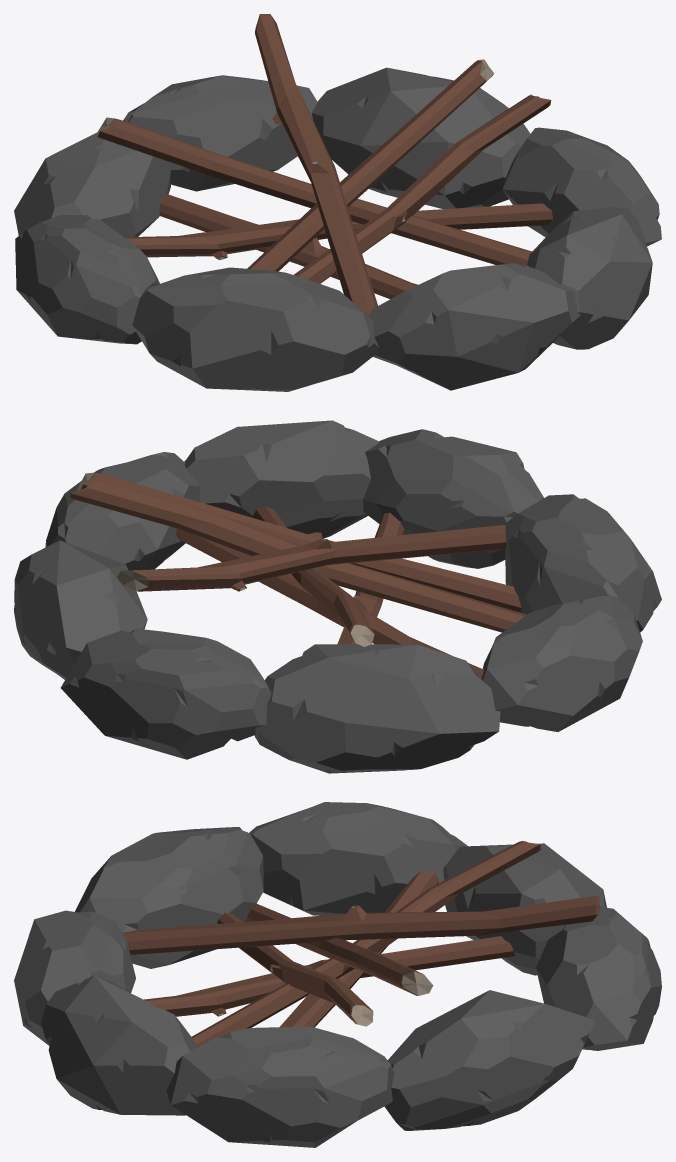
File: Campfire.fbx
3 renders of one model, top to bottom at view 1: azimuth 30°, elevation 25°; view 2: azimuth 150°, elevation 25°; view 3: azimuth 270°, elevation 25°, orthographic. The views are drawn at different scales.
Visible parts, largest first — view 1: Campfire Part Rock 04, Campfire Part Rock 05, Campfire Part Rock 08, Campfire Part Rock 03, Campfire Part Rock 06, Campfire Part Rock 01, Campfire Part Rock 02, Campfire Part Rock 07, Campfire Stick Part 03, Campfire Stick Part 06, Campfire Stick Part 04, Campfire Stick Part 02 (+2 smaller); view 2: Campfire Part Rock 02, Campfire Part Rock 01, Campfire Part Rock 06, Campfire Part Rock 03, Campfire Part Rock 05, Campfire Part Rock 04, Campfire Part Rock 08, Campfire Stick Part 04, Campfire Stick Part 06, Campfire Part Rock 07, Campfire Stick Part 05, Campfire Stick Part 02 (+2 smaller); view 3: Campfire Part Rock 07, Campfire Part Rock 08, Campfire Part Rock 03, Campfire Part Rock 04, Campfire Part Rock 06, Campfire Part Rock 01, Campfire Stick Part 06, Campfire Part Rock 05, Campfire Part Rock 02, Campfire Stick Part 03, Campfire Stick Part 01, Campfire Stick Part 05 (+2 smaller).
Part boxes in pixels (x1,y1,x2,y2): Campfire Part Rock 04: (132,267,379,391); Campfire Part Rock 05: (369,263,580,390); Campfire Part Rock 08: (311,67,530,209); Campfire Part Rock 03: (15,215,159,344); Campfire Part Rock 06: (527,207,652,349); Campfire Part Rock 01: (123,75,317,191); Campfire Part Rock 02: (14,132,170,237); Campfire Part Rock 07: (502,127,661,246); Campfire Stick Part 03: (96,117,531,265); Campfire Stick Part 06: (255,14,377,315); Campfire Stick Part 04: (247,59,493,271); Campfire Stick Part 02: (124,203,553,259); Campfire Part Rock 02: (254,644,500,773); Campfire Part Rock 01: (60,628,271,759); Campfire Part Rock 06: (184,420,378,538); Campfire Part Rock 03: (481,594,642,731); Campfire Part Rock 05: (363,429,543,568); Campfire Part Rock 04: (505,494,661,632); Campfire Part Rock 08: (14,540,147,679); Campfire Stick Part 04: (70,480,526,632); Campfire Stick Part 06: (117,525,506,591); Campfire Part Rock 07: (45,452,200,570); Campfire Stick Part 05: (77,472,521,612); Campfire Stick Part 02: (176,528,483,678); Campfire Part Rock 07: (166,1026,394,1147); Campfire Part Rock 08: (384,990,595,1130); Campfire Part Rock 03: (249,802,467,915); Campfire Part Rock 04: (75,827,263,968); Campfire Part Rock 06: (41,975,197,1115); Campfire Part Rock 01: (536,905,661,1050); Campfire Stick Part 06: (122,896,599,955); Campfire Part Rock 05: (14,910,135,1044); Campfire Part Rock 02: (443,843,606,975); Campfire Stick Part 03: (191,841,540,1046); Campfire Stick Part 01: (144,936,515,1016); Campfire Stick Part 05: (217,913,373,1026).
Bounding box in the file's own units: 0.872 × 0.2493 × 0.8627.
